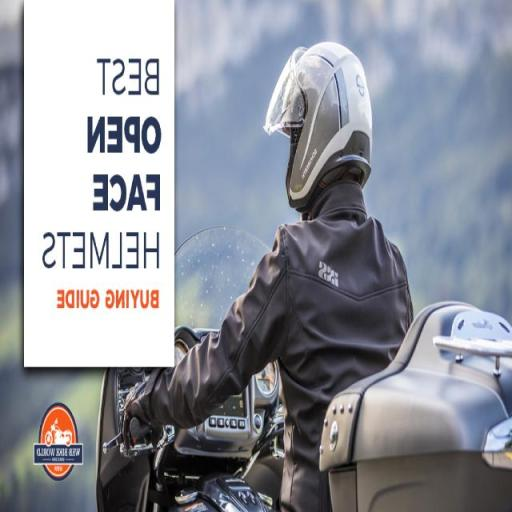Helmet: (264, 43, 371, 211)
Motor: (69, 260, 512, 512)
